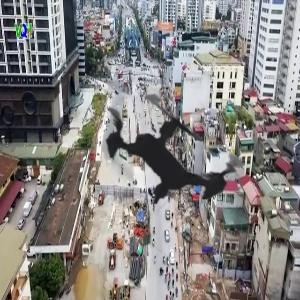drone: (52, 46, 275, 269)
